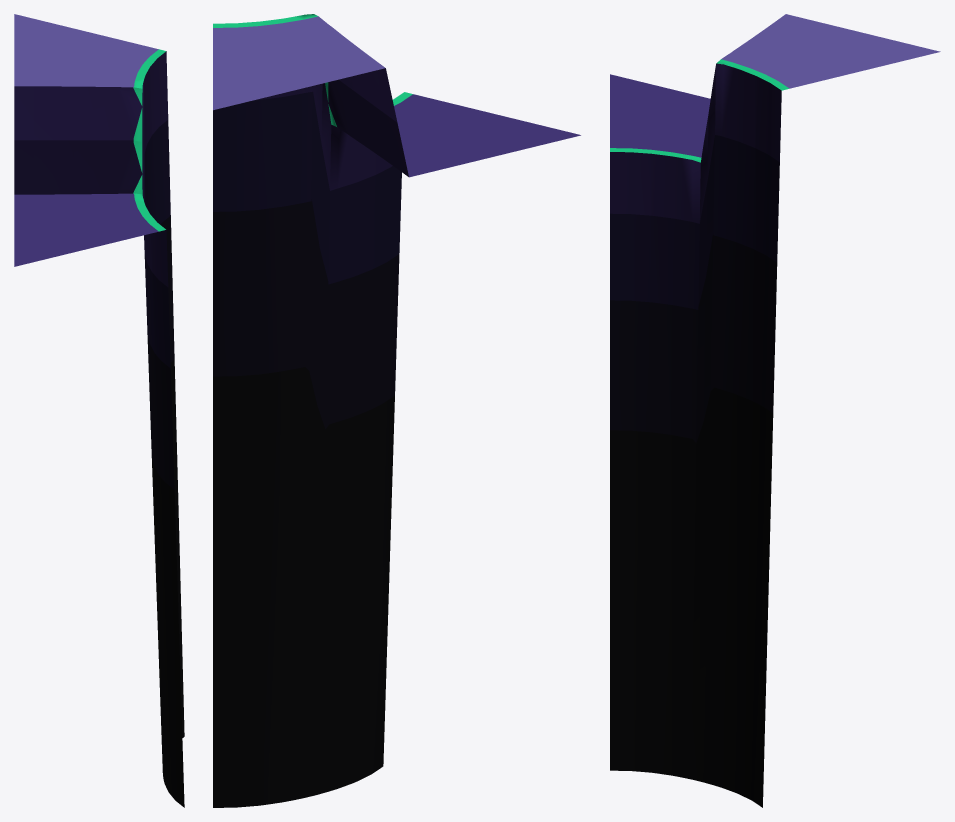
Rendered from MODULE_ALIEN_RIM_STEP_2_CLIFF.fbx.
3 renders of one model, left to right at view 1: azimuth 30°, elevation 25°; view 2: azimuth 150°, elevation 25°; view 3: azimuth 270°, elevation 25°, orthographic. The views are drawn at different scales.
Visible parts, largest first — view 1: MODULE_ALIEN_RIM_STEP_2_CLIFF__export; view 2: MODULE_ALIEN_RIM_STEP_2_CLIFF__export; view 3: MODULE_ALIEN_RIM_STEP_2_CLIFF__export.
Part boxes in pixels (x1=…): MODULE_ALIEN_RIM_STEP_2_CLIFF__export: x1=14, y1=14, x2=184, y2=807; MODULE_ALIEN_RIM_STEP_2_CLIFF__export: x1=213, y1=14, x2=580, y2=807; MODULE_ALIEN_RIM_STEP_2_CLIFF__export: x1=610, y1=14, x2=940, y2=807.
Bounding box in the file's own units: 76.91 × 206 × 86.6.
